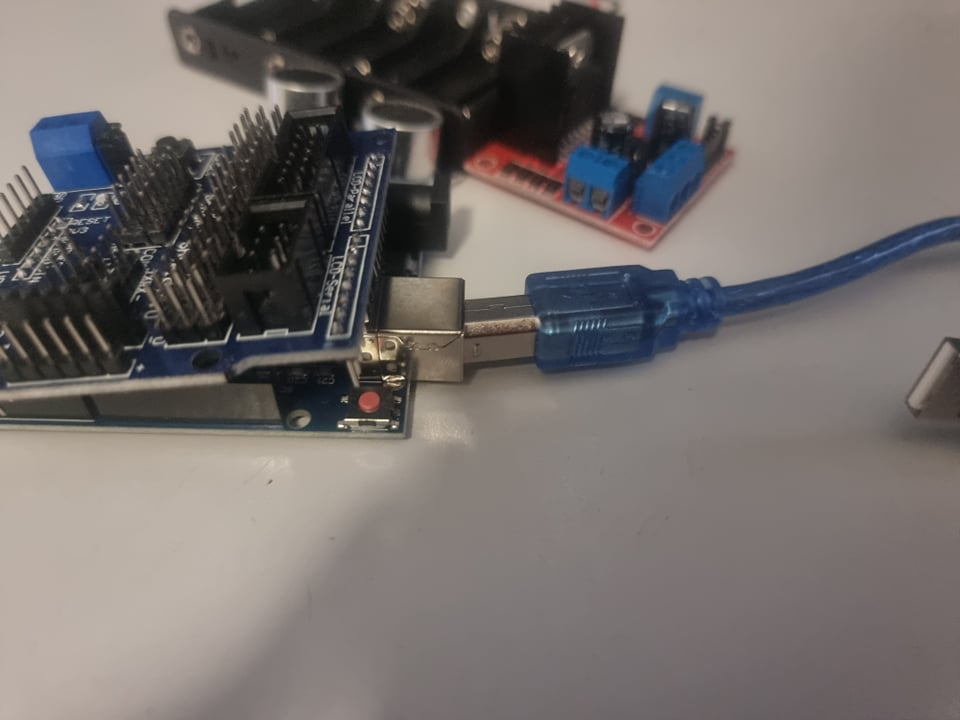5V EXPANSION: (5, 103, 370, 365)
BATTERY BOX: (166, 1, 515, 93)
MOTOR: (467, 3, 738, 253)
UNO R3: (369, 138, 466, 449)
